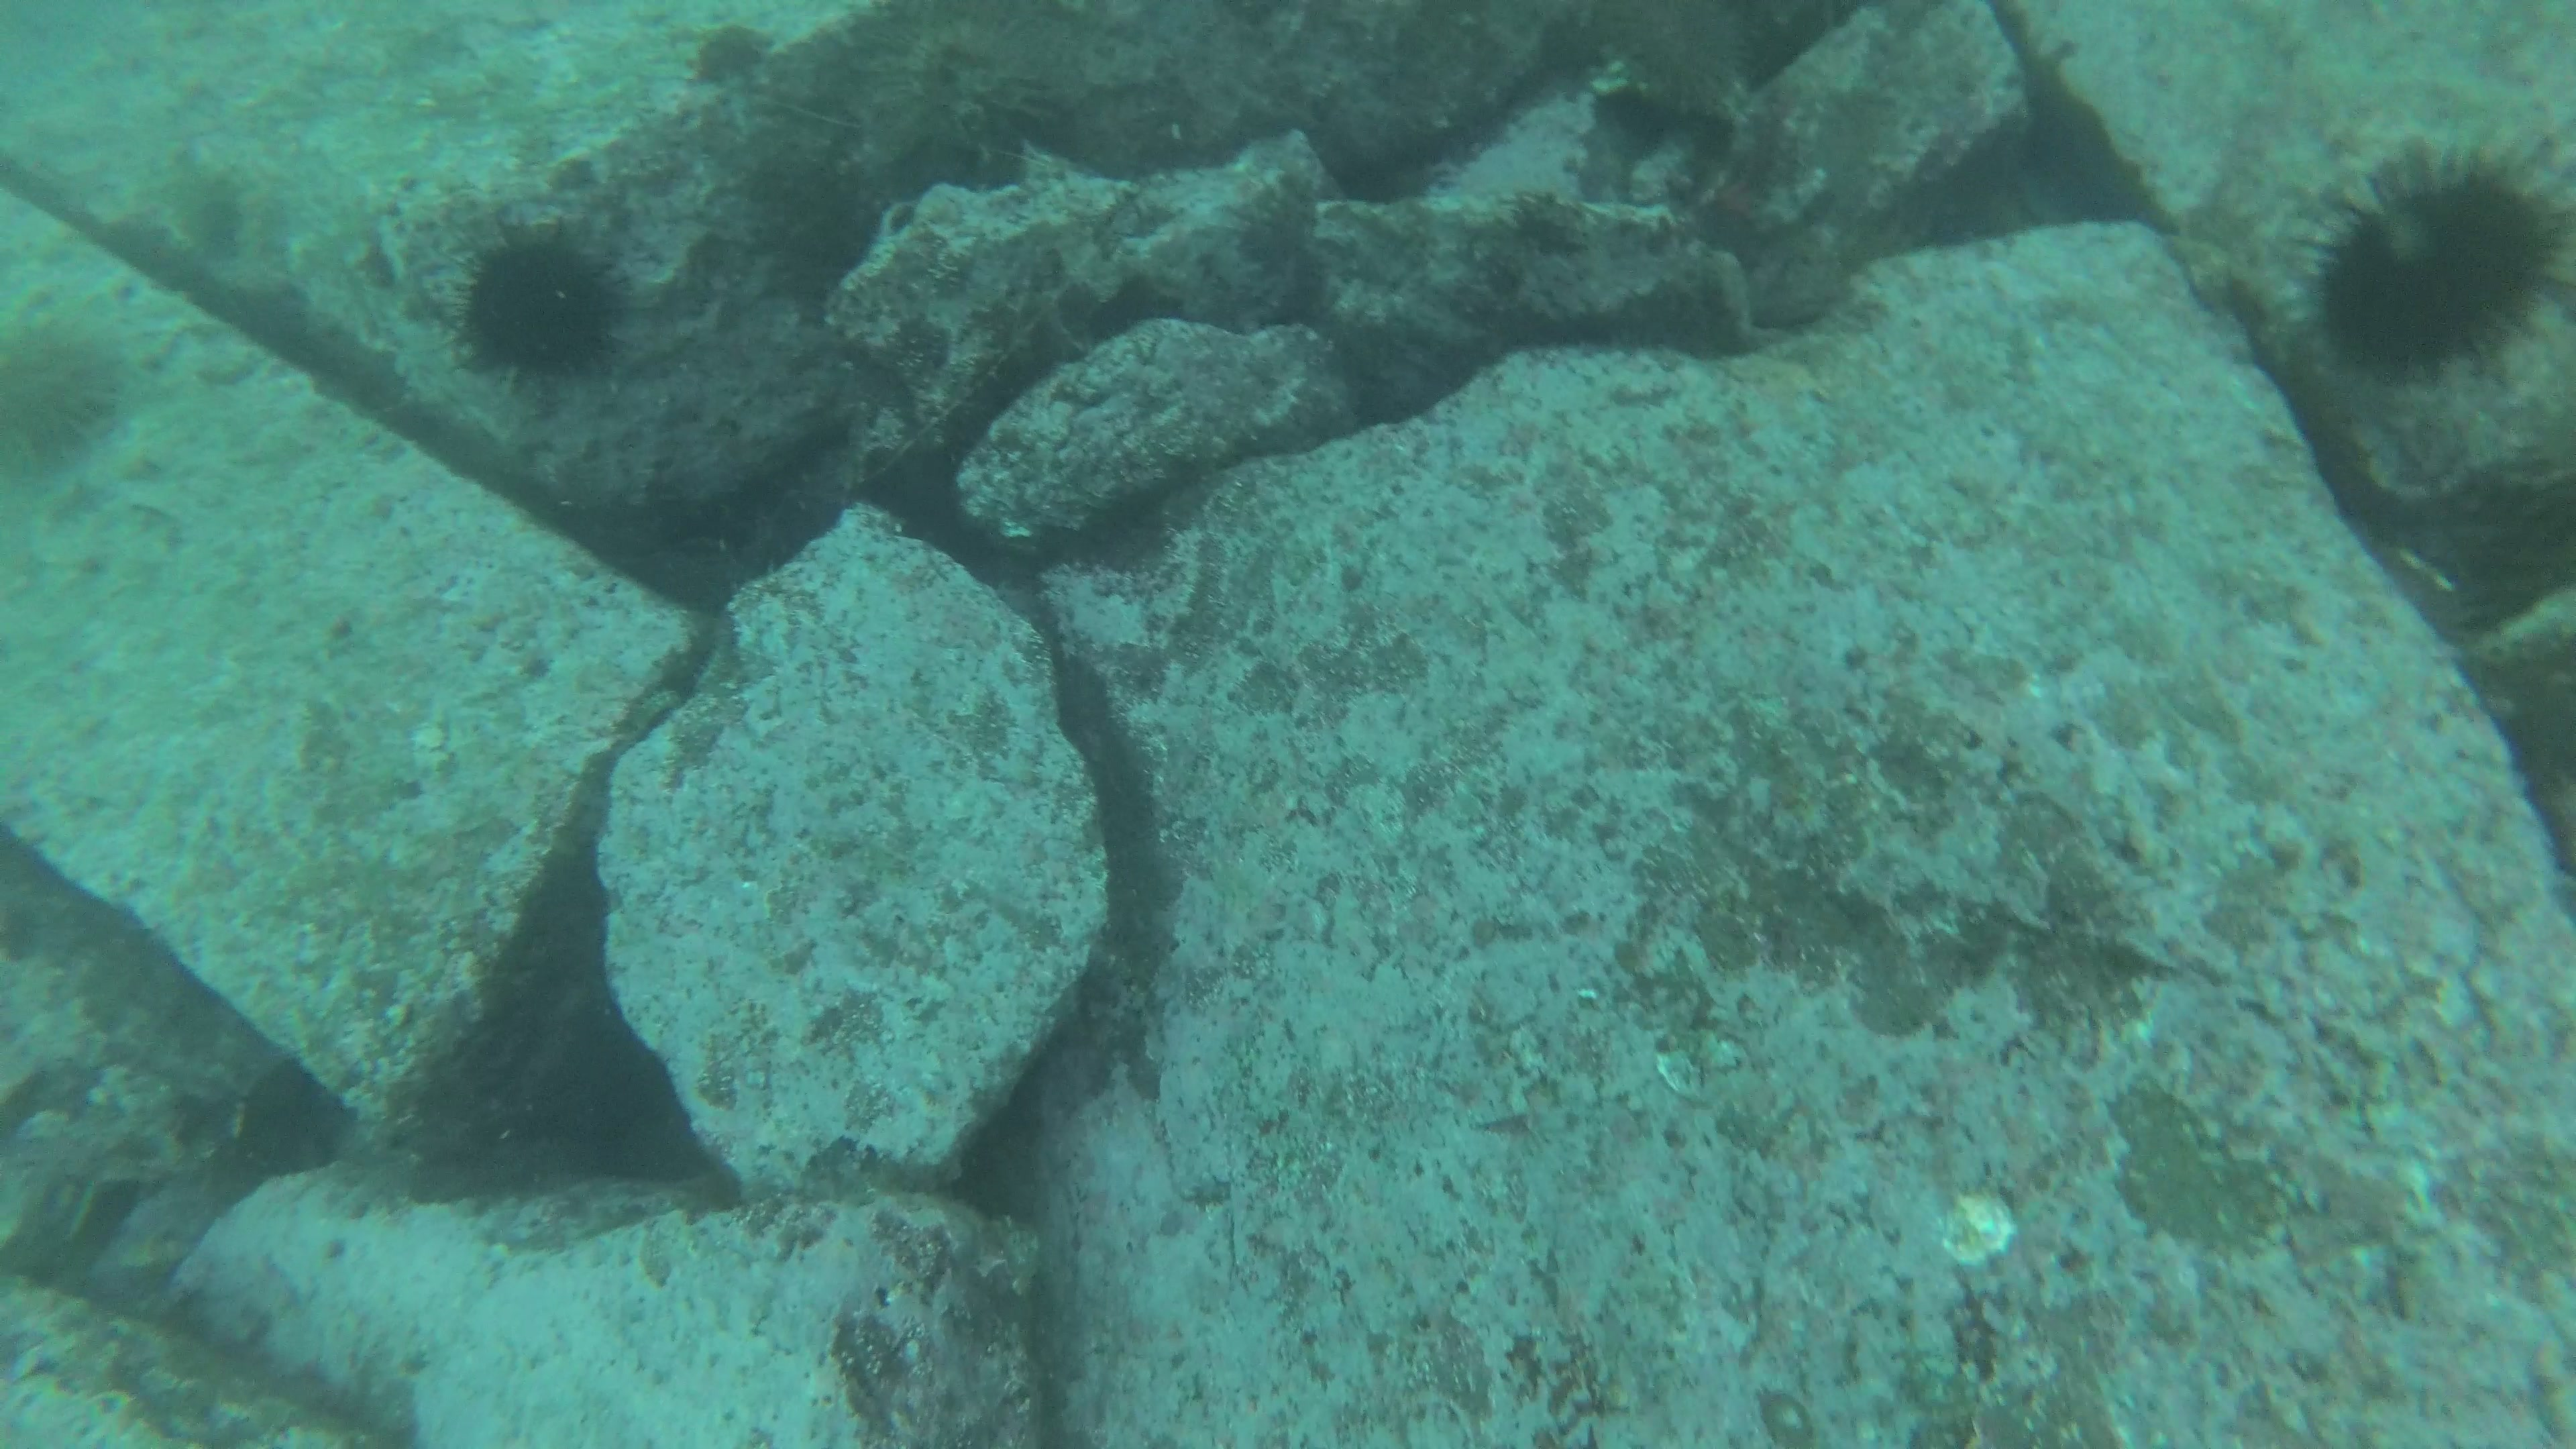echinus: (2282, 145, 2564, 370), (428, 219, 644, 372), (5, 327, 110, 464)
